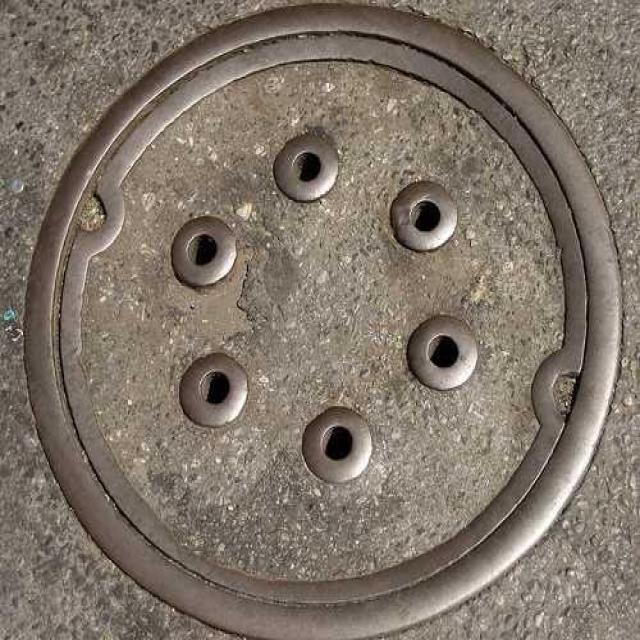manhole: (25, 6, 621, 636)
